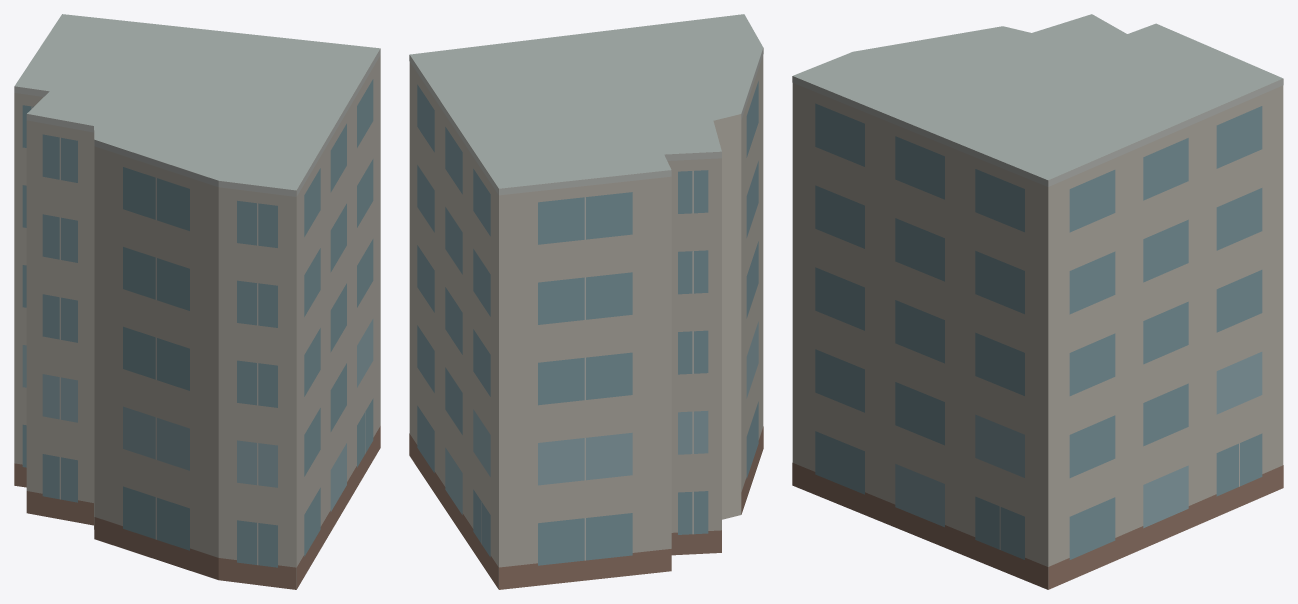
File: survey-upis-32695819.glb
3 renders of one model, left to right at view 1: azimuth 30°, elevation 25°; view 2: azimuth 150°, elevation 25°; view 3: azimuth 270°, elevation 25°, orthographic. The views are drawn at different scales.
Parts seen in each view (by area): view 1: survey-upis-32695819.tmp; view 2: survey-upis-32695819.tmp; view 3: survey-upis-32695819.tmp.
Part boxes in pixels (<box>): survey-upis-32695819.tmp: <box>14,14,380,589</box>; survey-upis-32695819.tmp: <box>409,14,763,589</box>; survey-upis-32695819.tmp: <box>792,14,1283,589</box>.
Size of the model in its own units: 12.9 by 14.8 by 16.09.
